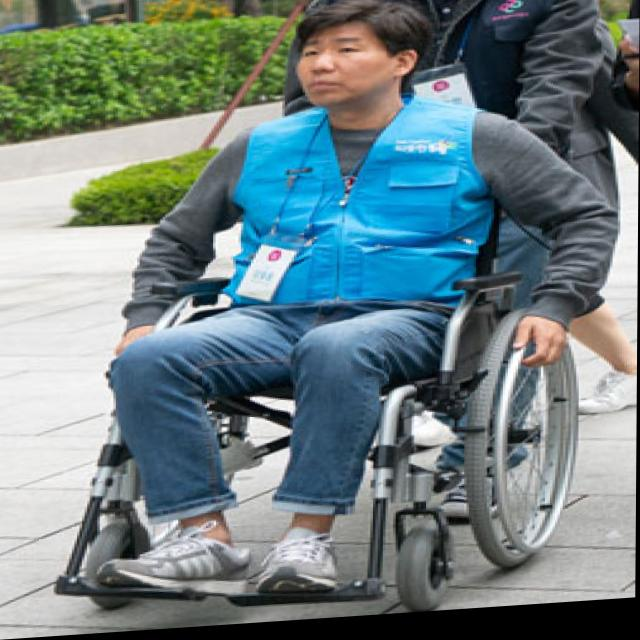wheelchair: (58, 0, 586, 634)
